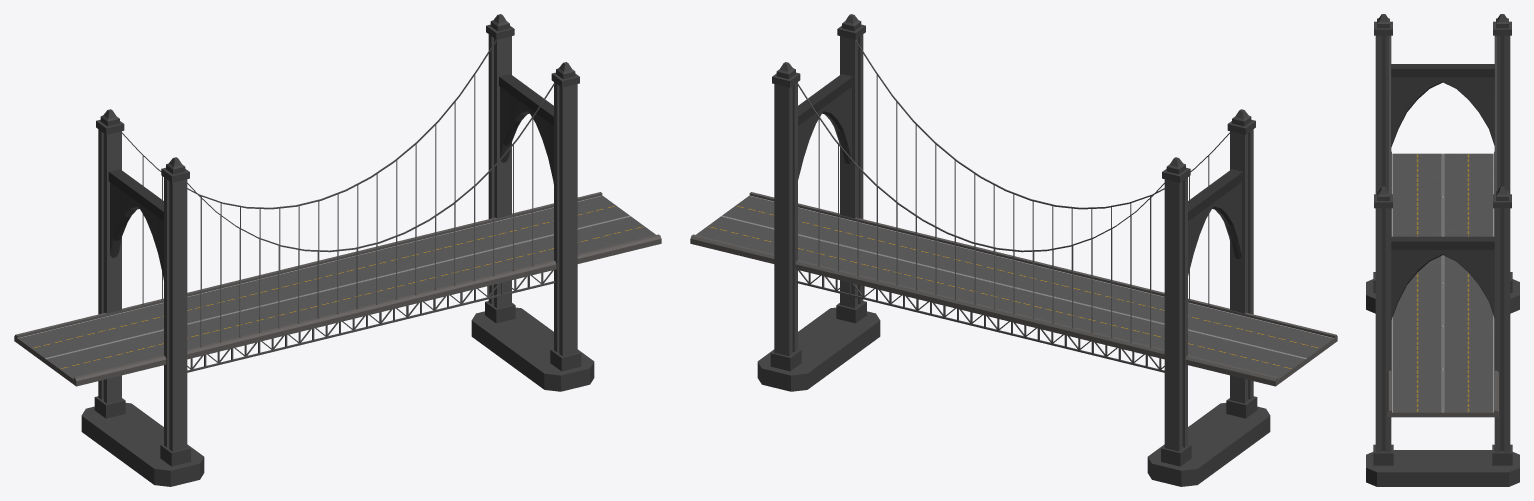
Rendered from SM_Floor_Bridge_01.fbx.
3 renders of one model, left to right at view 1: azimuth 30°, elevation 25°; view 2: azimuth 150°, elevation 25°; view 3: azimuth 270°, elevation 25°, orthographic. The views are drawn at different scales.
Visible parts, largest first — view 1: SM_Floor_Bridge_01; view 2: SM_Floor_Bridge_01; view 3: SM_Floor_Bridge_01.
Part boxes in pixels (<box>): SM_Floor_Bridge_01: <box>14,14,661,486</box>; SM_Floor_Bridge_01: <box>690,14,1337,486</box>; SM_Floor_Bridge_01: <box>1366,14,1519,486</box>.
Bounding box in the file's own units: 60 × 31.16 × 15.07.
